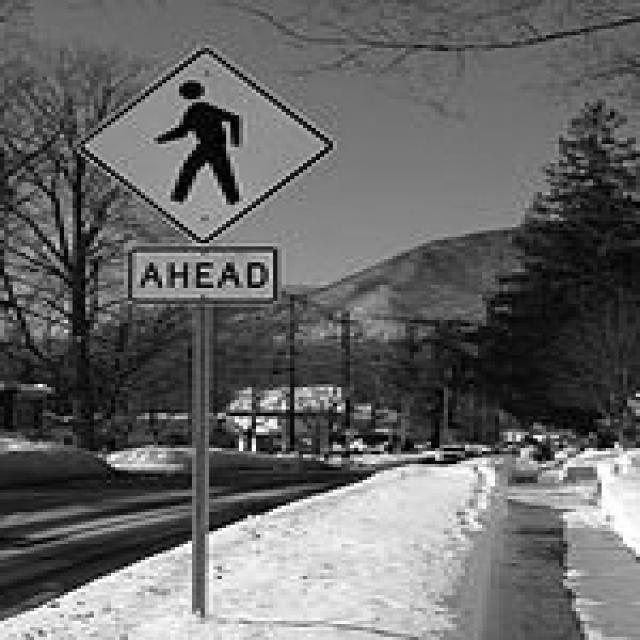pedestrian crossing: (67, 44, 335, 240)
